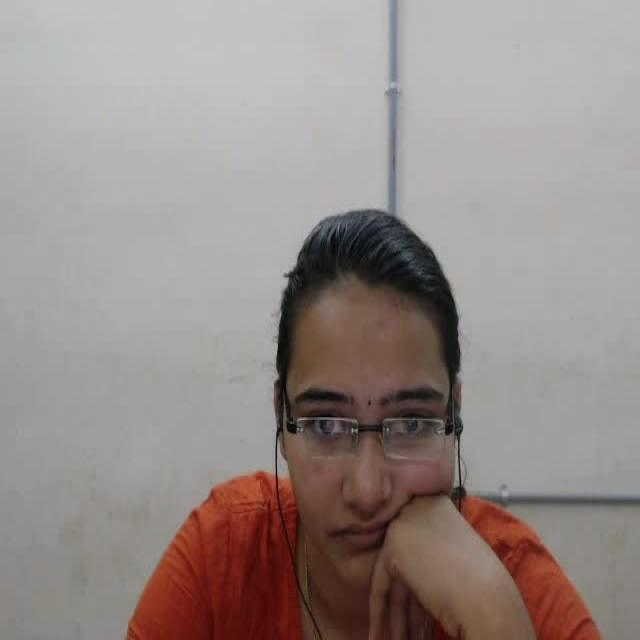Bored: (264, 161, 500, 618)
